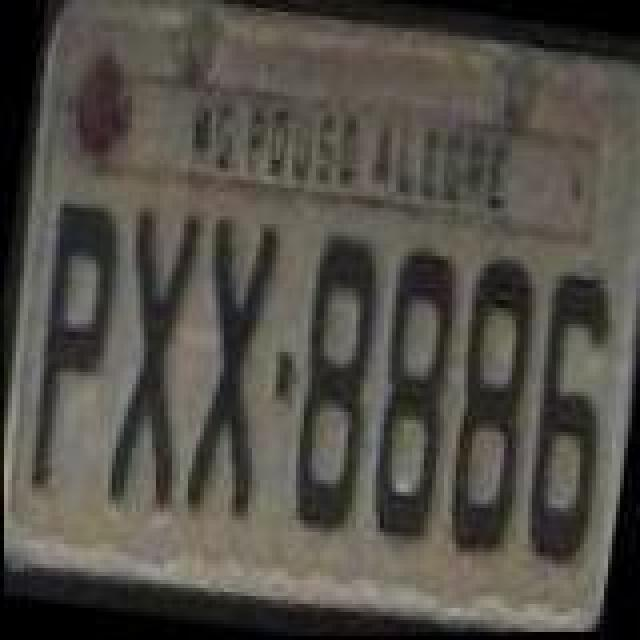6: (512, 270, 628, 574)
8: (430, 254, 550, 566), (276, 230, 392, 538), (356, 242, 472, 542)
P: (16, 196, 132, 500)
X: (92, 202, 216, 514), (168, 212, 284, 520)
